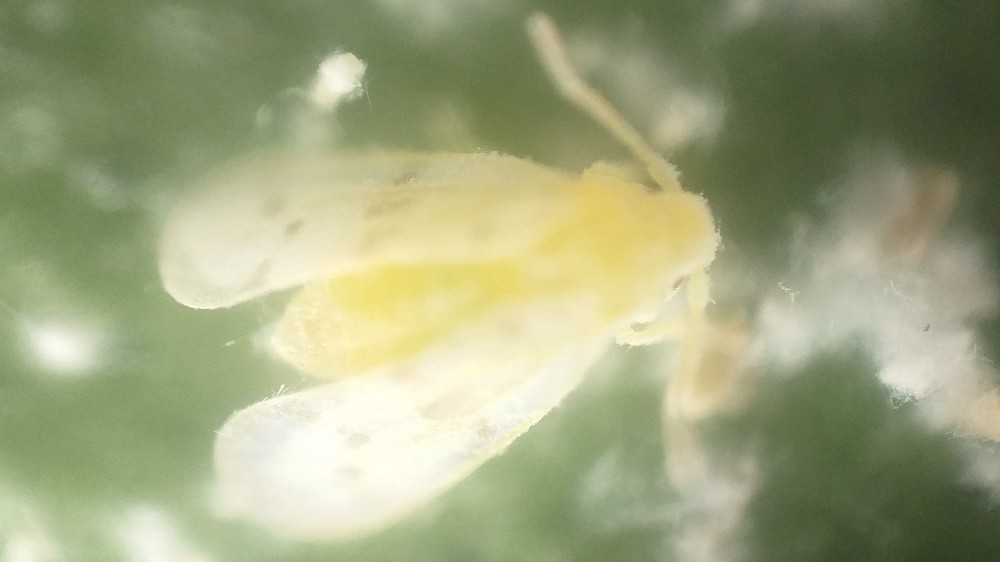Mosca Blanca: (160, 17, 742, 557)
